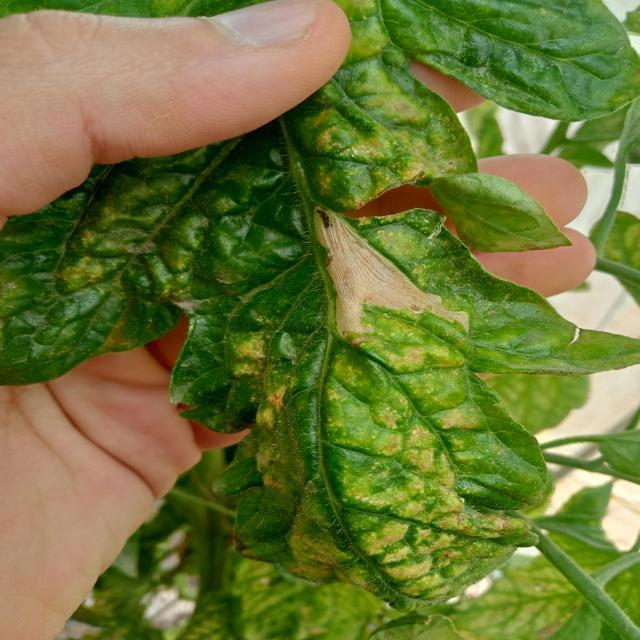Tuta absoluta: (268, 205, 482, 390)
